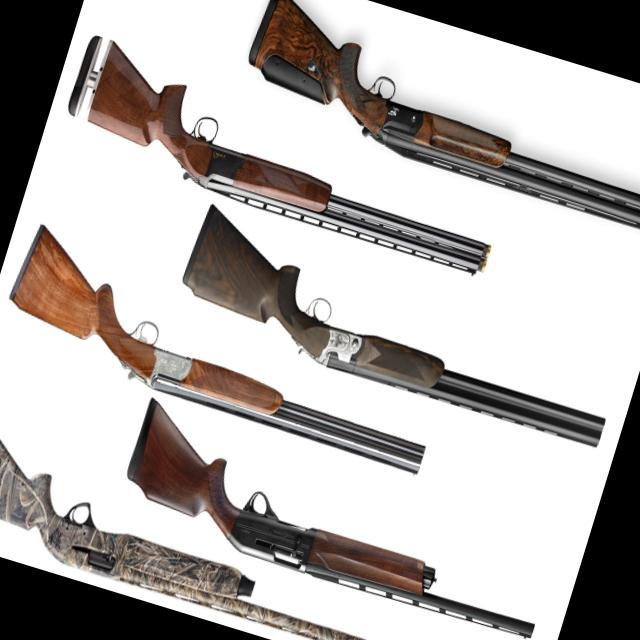Weapon: (44, 16, 526, 292), (0, 209, 467, 483), (154, 201, 638, 459), (104, 390, 574, 640), (224, 0, 640, 246), (0, 404, 412, 640)
